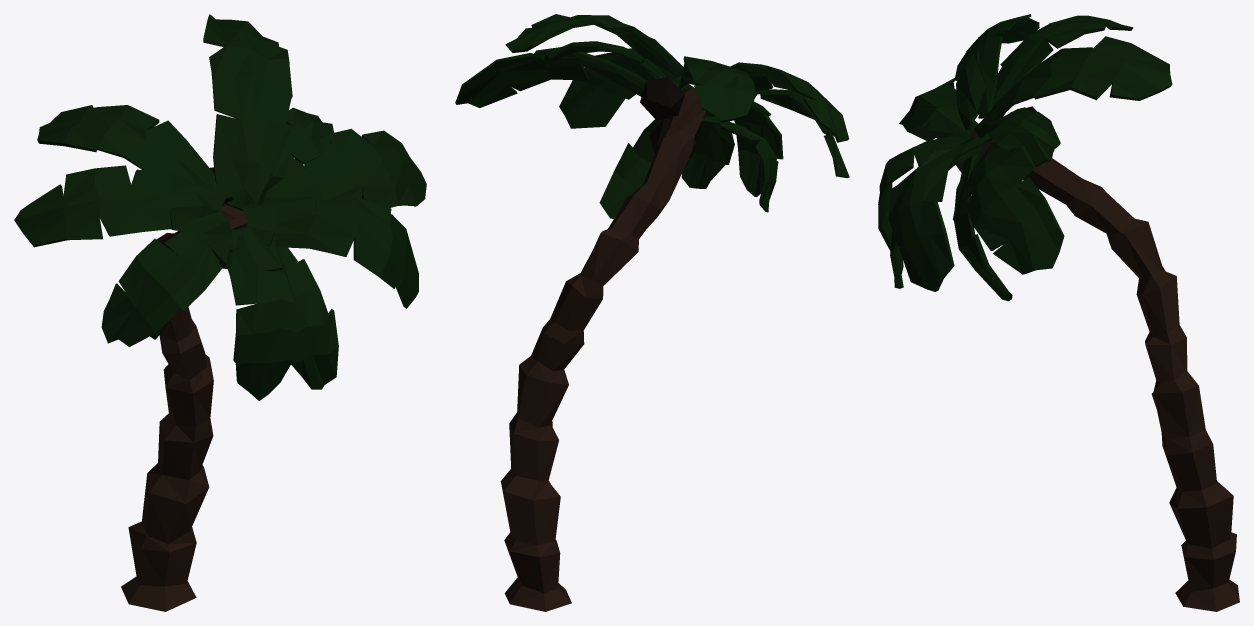
Rendered from palm_tree_3.obj.
3 renders of one model, left to right at view 1: azimuth 30°, elevation 25°; view 2: azimuth 150°, elevation 25°; view 3: azimuth 270°, elevation 25°, orthographic. The views are drawn at different scales.
Visible parts, largest first — view 1: palm_tree_3_leaves, palm_tree_3_trunk; view 2: palm_tree_3_leaves, palm_tree_3_trunk, palm_tree_3_coconuts; view 3: palm_tree_3_leaves, palm_tree_3_trunk.
Boxes of the visible parts, x1=… form: palm_tree_3_leaves: x1=14, y1=14, x2=426, y2=400; palm_tree_3_trunk: x1=121, y1=203, x2=246, y2=611; palm_tree_3_leaves: x1=455, y1=14, x2=849, y2=218; palm_tree_3_trunk: x1=500, y1=88, x2=706, y2=611; palm_tree_3_coconuts: x1=640, y1=77, x2=696, y2=154; palm_tree_3_leaves: x1=878, y1=14, x2=1172, y2=301; palm_tree_3_trunk: x1=970, y1=115, x2=1239, y2=611.
Bounding box in the file's own units: 3.12 × 4.33 × 2.55.
